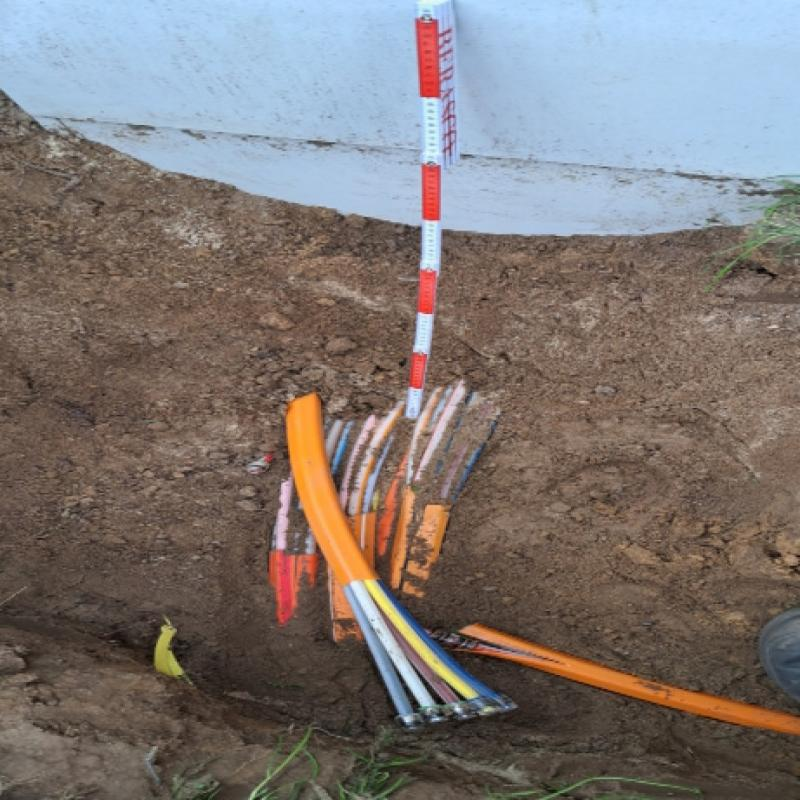Orang-Speednetrohrchen: (262, 398, 766, 731)
